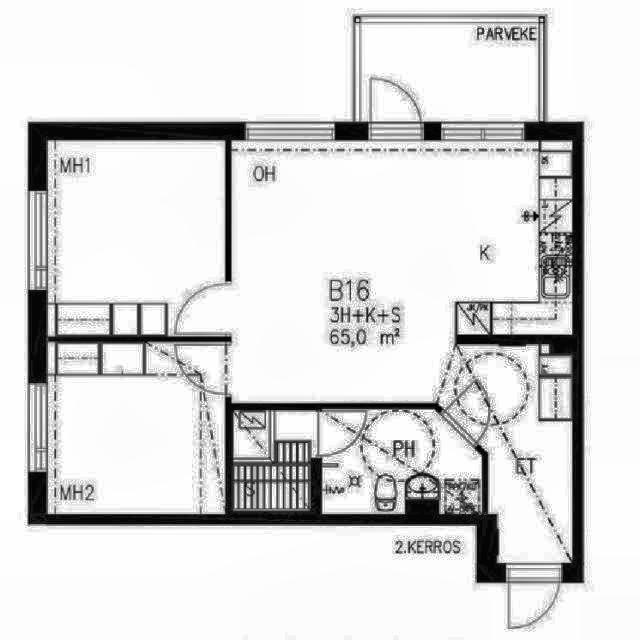room: (47, 141, 225, 337), (47, 343, 225, 514), (321, 409, 483, 515), (233, 411, 310, 511)
